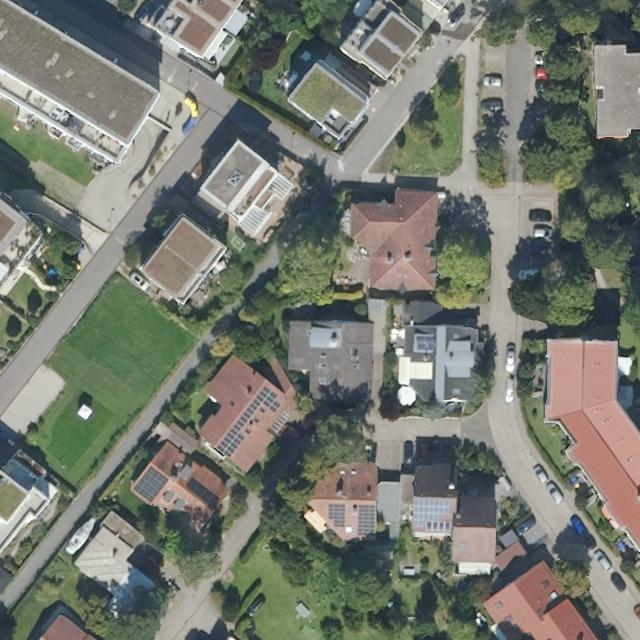PV: (214, 384, 283, 460), (132, 464, 171, 504), (412, 497, 451, 529), (356, 504, 376, 536), (326, 502, 348, 531)
